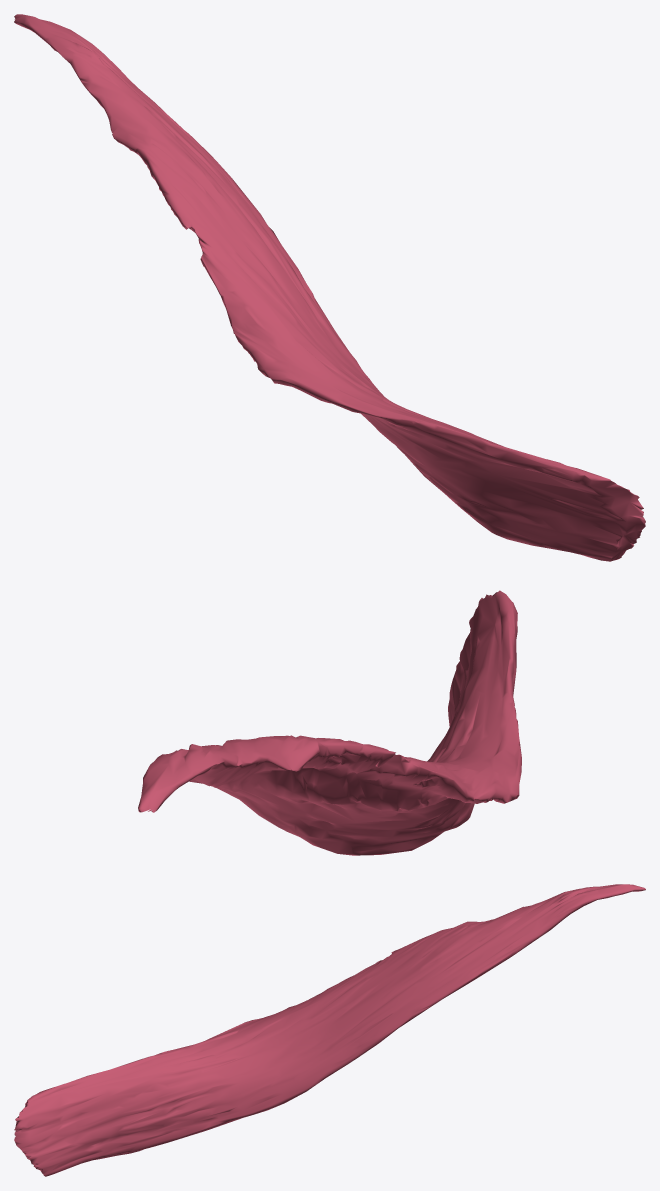
3 views of the same model, one above another, from view 1: azimuth 30°, elevation 25°; view 2: azimuth 150°, elevation 25°; view 3: azimuth 270°, elevation 25° (orthographic). The views are drawn at different scales.
Visible parts, largest first — view 1: 左侧头夹肌; view 2: 左侧头夹肌; view 3: 左侧头夹肌.
Part boxes in pixels (x1,y1,x2,y2): 左侧头夹肌: (14, 14, 645, 561); 左侧头夹肌: (138, 590, 521, 855); 左侧头夹肌: (14, 884, 645, 1176).
Bounding box in the file's own units: 0.0904 × 0.1242 × 0.3177.
